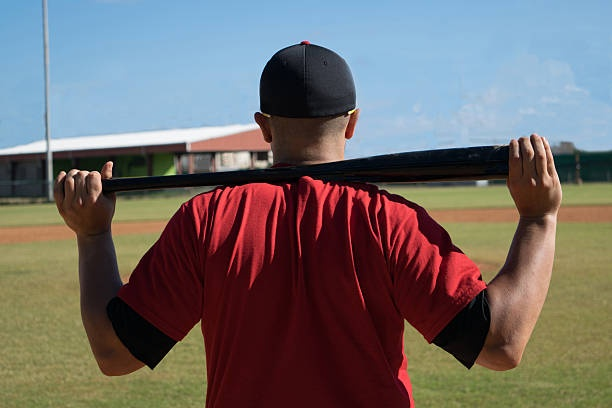bita: (71, 134, 538, 185)
